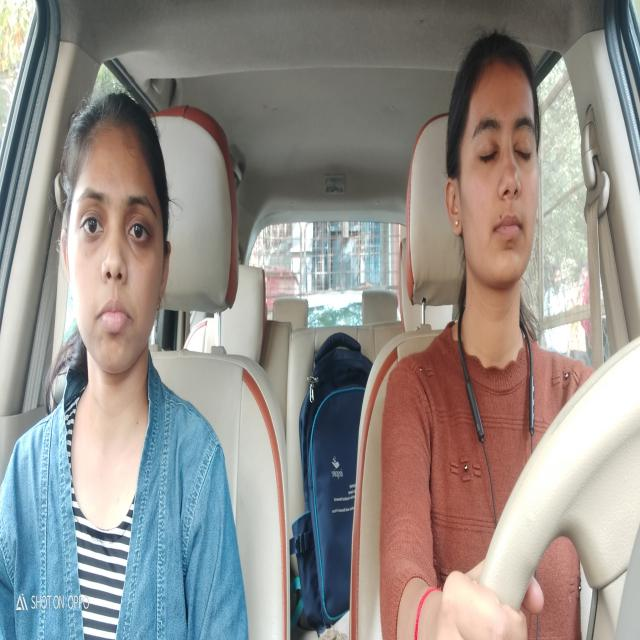drowsy: (443, 29, 551, 365)
person: (61, 87, 176, 394)
